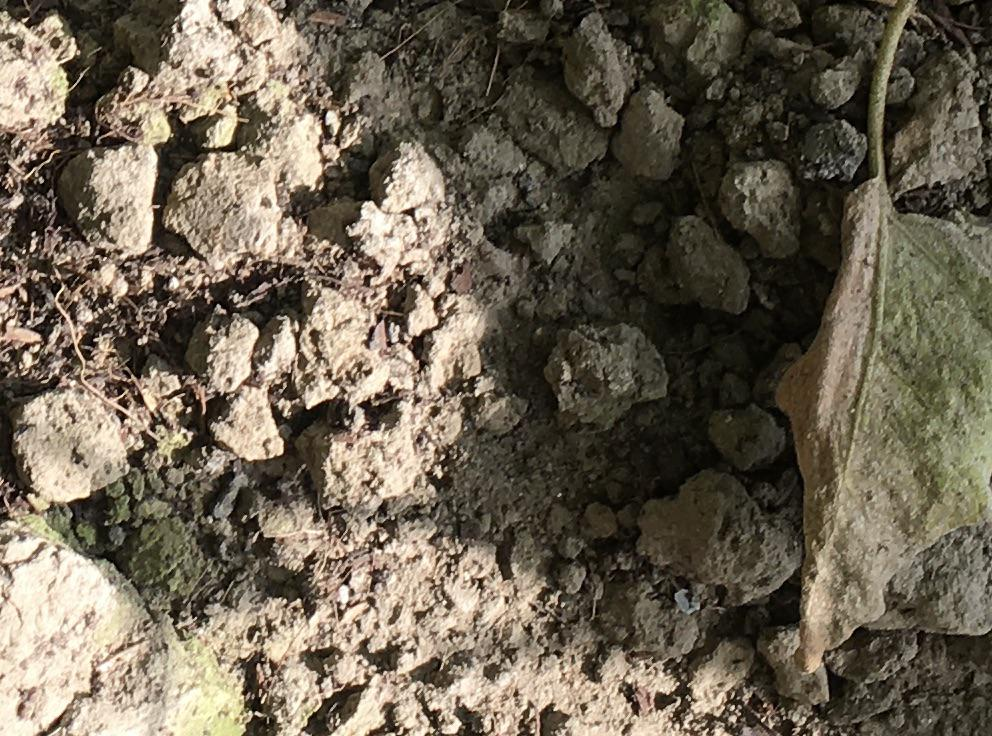block: (635, 447, 804, 600), (162, 147, 285, 266), (548, 322, 674, 433), (17, 389, 134, 503), (53, 143, 157, 255), (662, 215, 752, 317), (718, 156, 804, 262)
